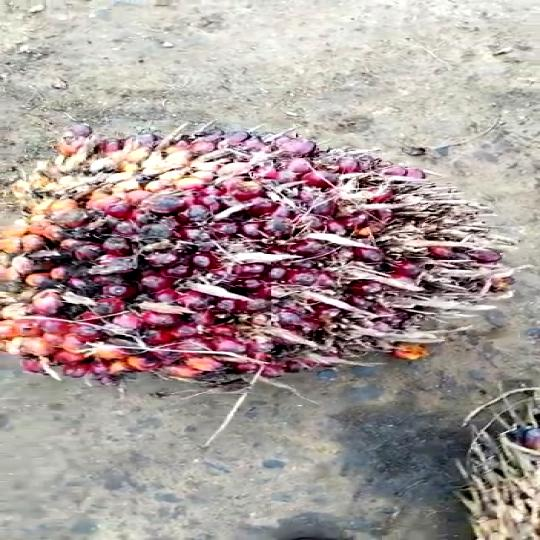masak: (0, 122, 502, 391)
